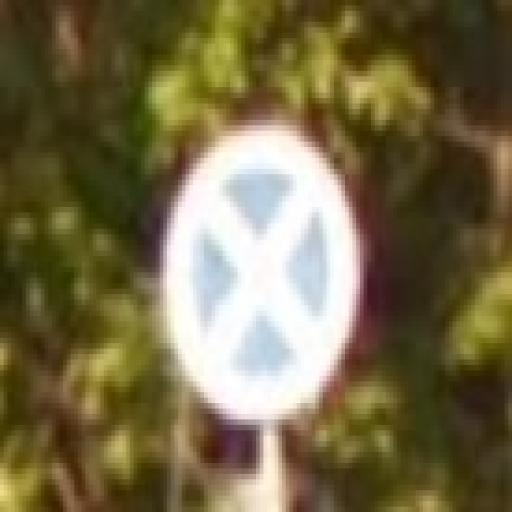traffic_sign: (164, 127, 365, 432)
